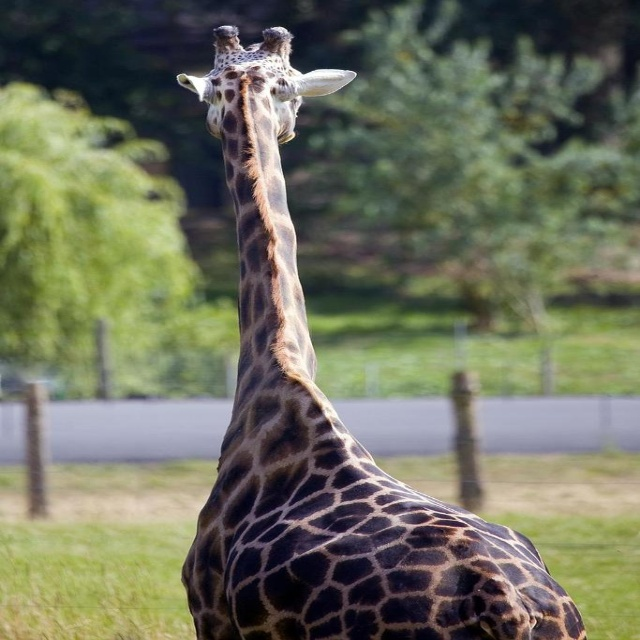Giraffe: (177, 23, 589, 639)
